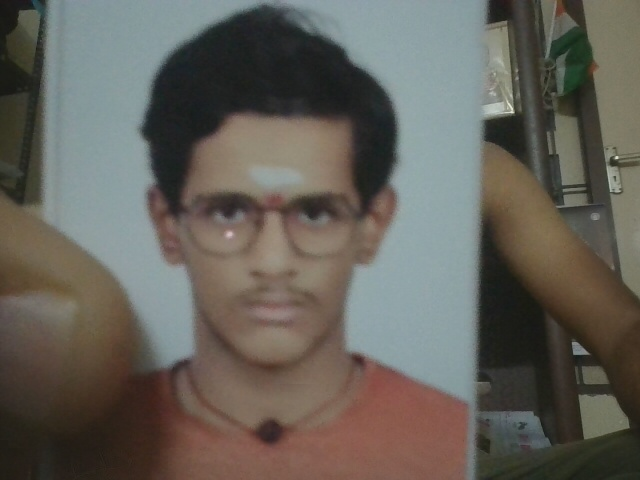fake: (136, 110, 411, 385)
